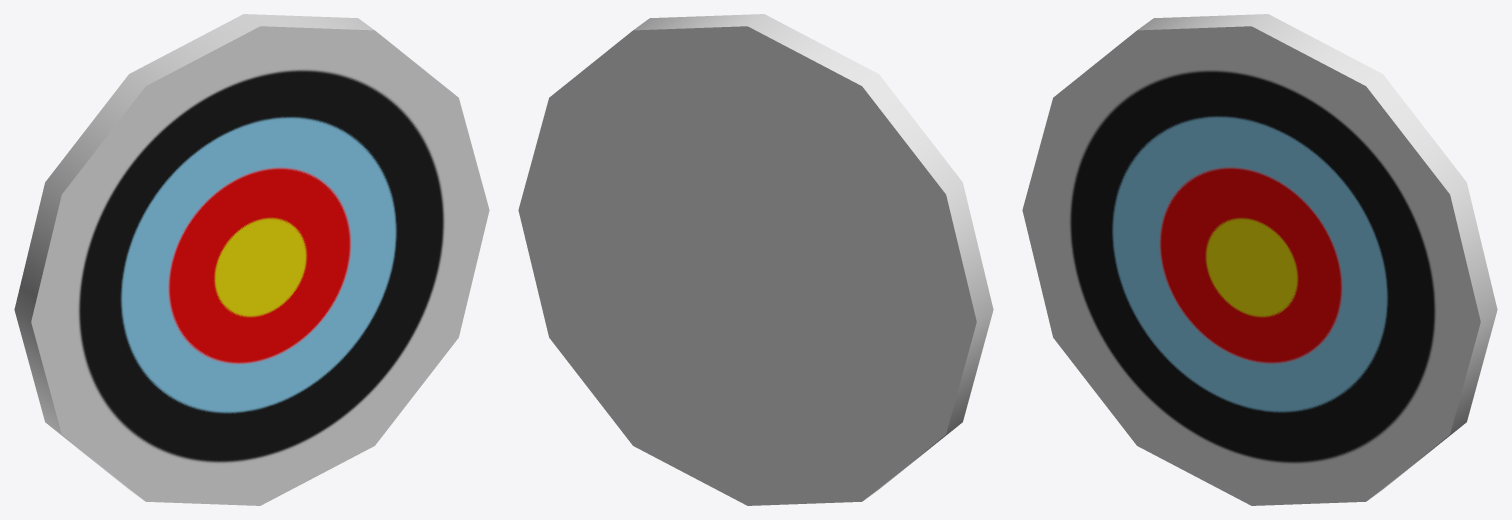
The model's file is adobe_cible.gltf.
The picture shows the model from 3 angles, left to right: view 1: azimuth 30°, elevation 25°; view 2: azimuth 150°, elevation 25°; view 3: azimuth 330°, elevation 25°; orthographic projection.
Visible parts, largest first — view 1: cible; view 2: cible; view 3: cible.
Boxes of the visible parts, bbox=[...] form: cible: bbox=[14, 14, 489, 505]; cible: bbox=[518, 14, 993, 505]; cible: bbox=[1022, 14, 1497, 505].
Bounding box in the file's own units: 1.22 × 1.22 × 0.0771.
1 material, 1 textured.
